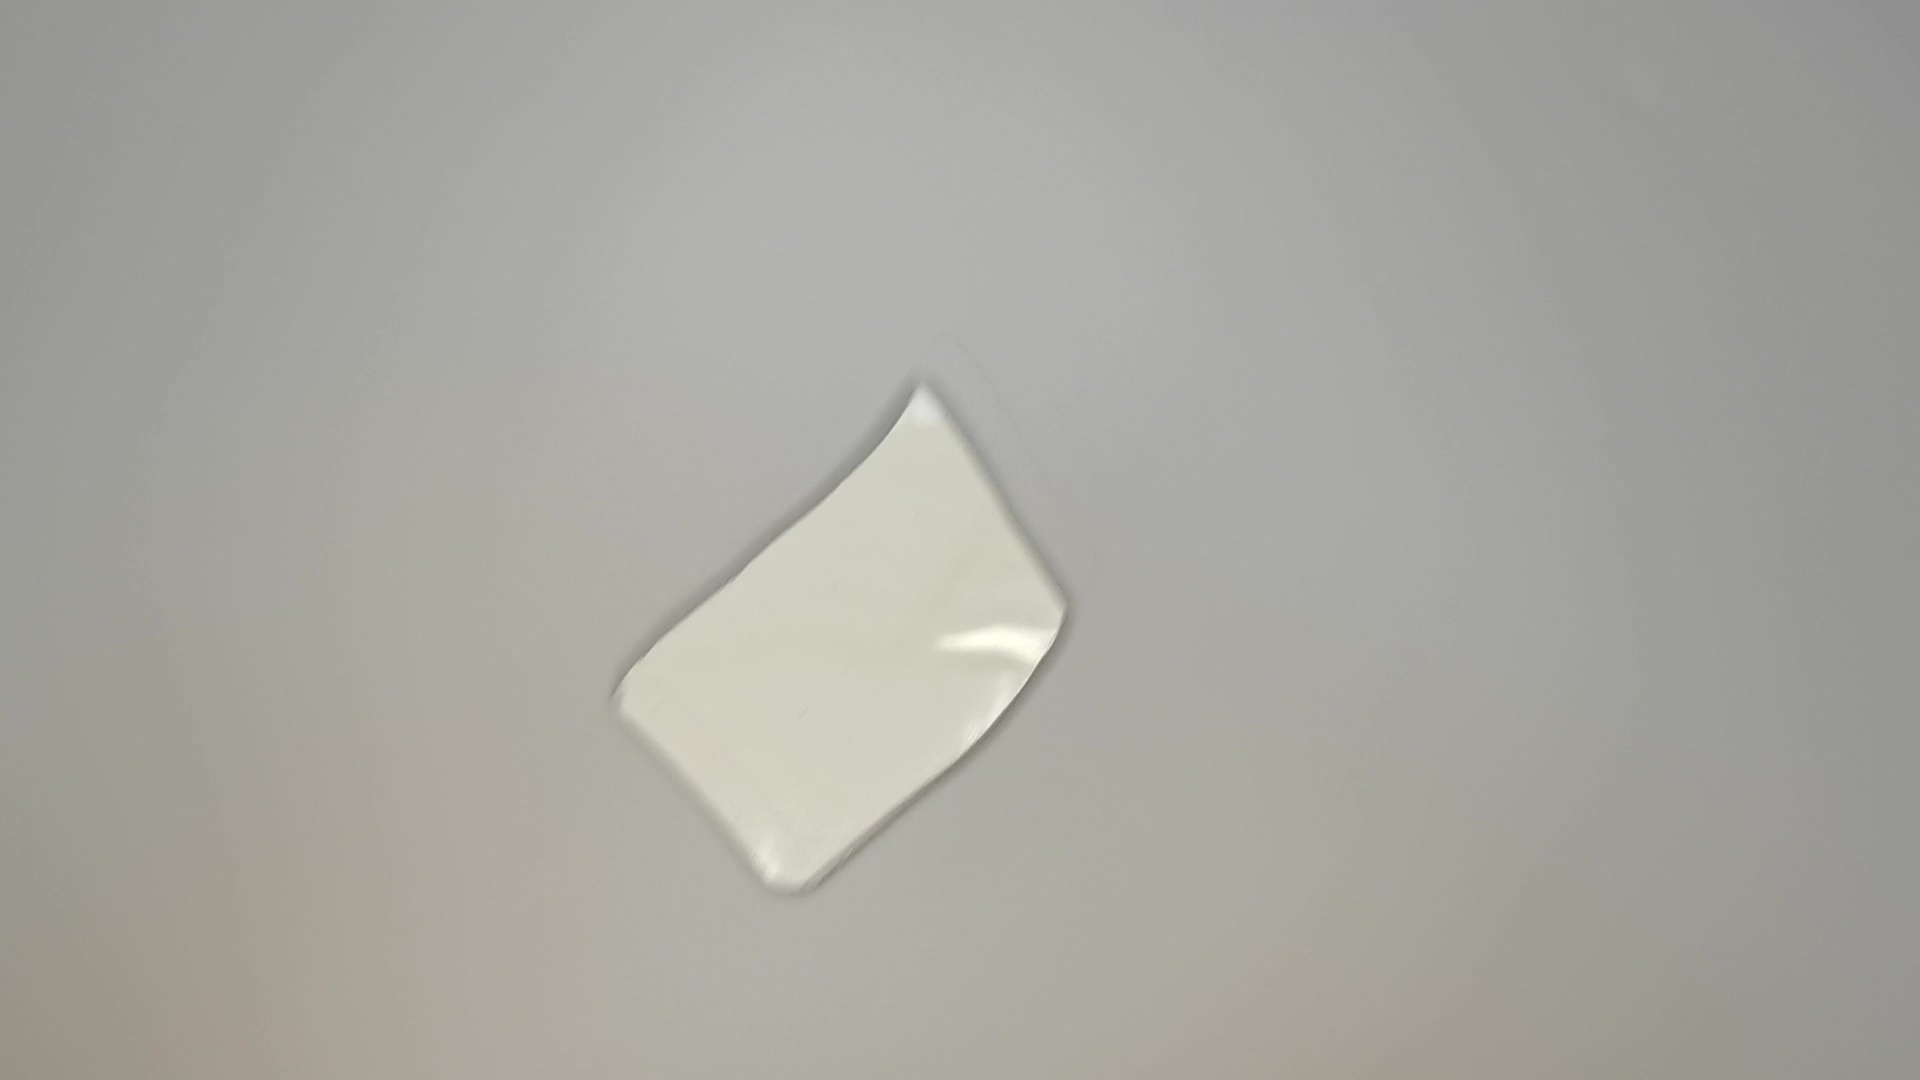ceramic: (626, 372, 1077, 899)
